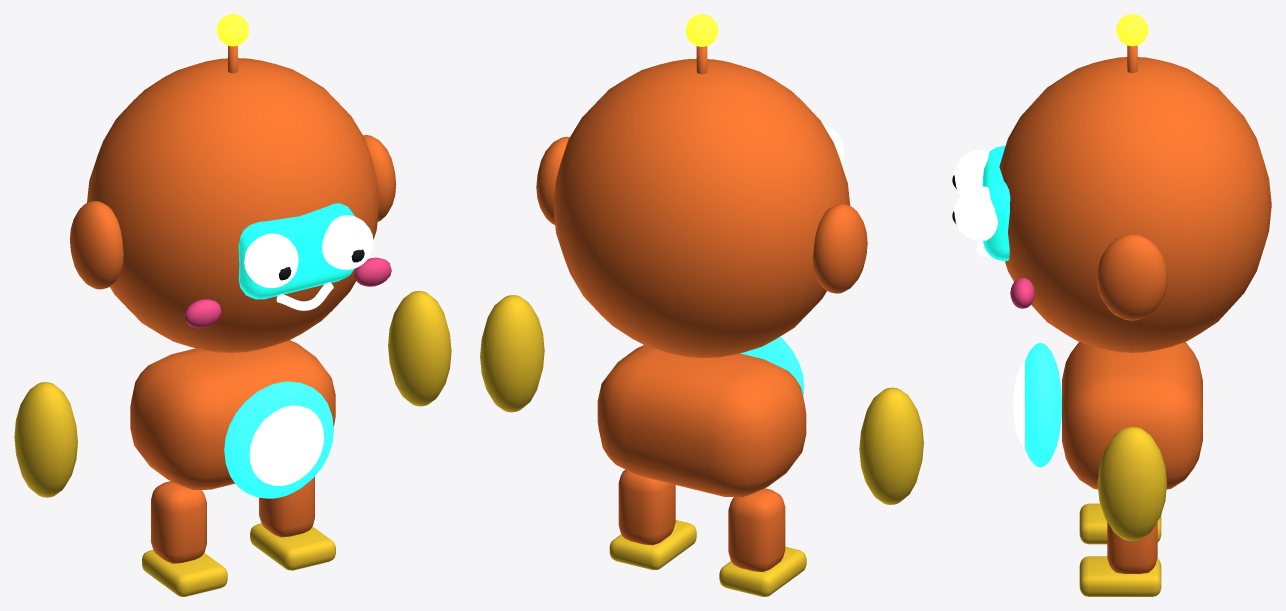
The model's file is sprocket.glb.
The picture shows the model from 3 angles, left to right: view 1: azimuth 30°, elevation 25°; view 2: azimuth 150°, elevation 25°; view 3: azimuth 270°, elevation 25°; orthographic projection.
Parts seen in each view (by area): view 1: Head, Body, ArmLeft, ArmRight, CoreRing, Visor, Core, LegLeft, EarLeft, FootRight, FootLeft, LegRight (+7 smaller); view 2: Head, Body, ArmRight, ArmLeft, LegLeft, EarLeft, LegRight, FootLeft, FootRight, EarRight, CoreRing, AntennaTip; view 3: Head, Body, ArmRight, EarRight, CoreRing, FootRight, Visor, LegRight, EyeRight, FootLeft, EyeLeft, AntennaTip (+2 smaller).
Boxes of the visible parts, x1,y1,x2,y2 form: Head: [87, 58, 379, 352]; Body: [130, 340, 335, 489]; ArmLeft: [14, 382, 77, 497]; ArmRight: [388, 291, 451, 406]; CoreRing: [224, 381, 333, 498]; Visor: [238, 203, 354, 299]; Core: [249, 405, 324, 485]; LegLeft: [151, 481, 206, 563]; EarLeft: [69, 201, 123, 289]; FootRight: [250, 523, 335, 570]; FootLeft: [142, 550, 227, 596]; LegRight: [259, 476, 314, 537]; Head: [553, 58, 850, 358]; Body: [597, 345, 806, 497]; ArmRight: [480, 295, 544, 412]; ArmLeft: [859, 387, 923, 504]; LegLeft: [728, 488, 785, 571]; EarLeft: [813, 204, 867, 293]; LegRight: [618, 469, 675, 545]; FootLeft: [719, 546, 806, 596]; FootRight: [609, 520, 696, 569]; EarRight: [536, 136, 569, 224]; CoreRing: [740, 337, 804, 396]; AntennaTip: [685, 14, 718, 46]; Head: [999, 57, 1271, 352]; Body: [1062, 342, 1202, 489]; ArmRight: [1097, 427, 1166, 540]; EarRight: [1096, 234, 1167, 320]; CoreRing: [1024, 343, 1061, 467]; FootRight: [1079, 556, 1161, 596]; Visor: [982, 145, 1010, 261]; LegRight: [1107, 522, 1157, 573]; EyeRight: [954, 186, 997, 240]; FootLeft: [1079, 503, 1161, 544]; EyeLeft: [954, 150, 989, 194]; AntennaTip: [1116, 14, 1148, 46].
Bounding box in the file's own units: 3.31 × 4.06 × 2.15.
